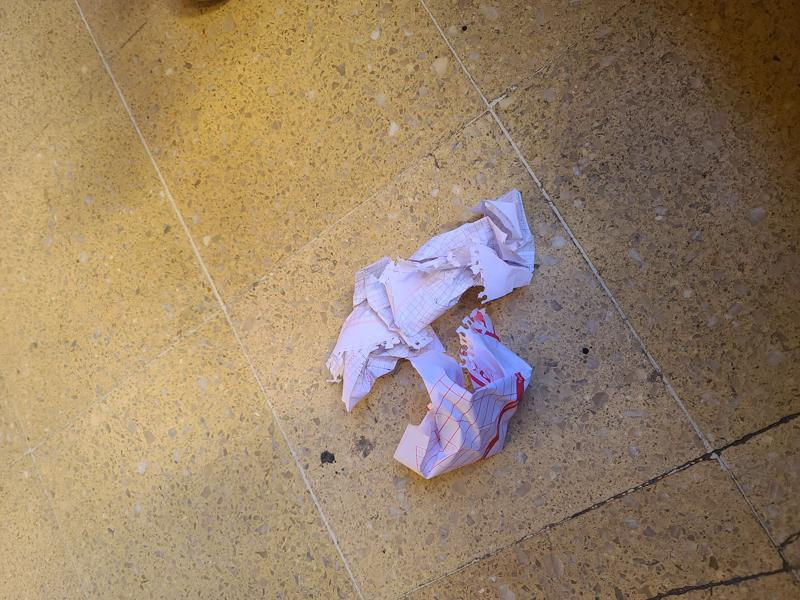papel: (324, 190, 538, 479)
